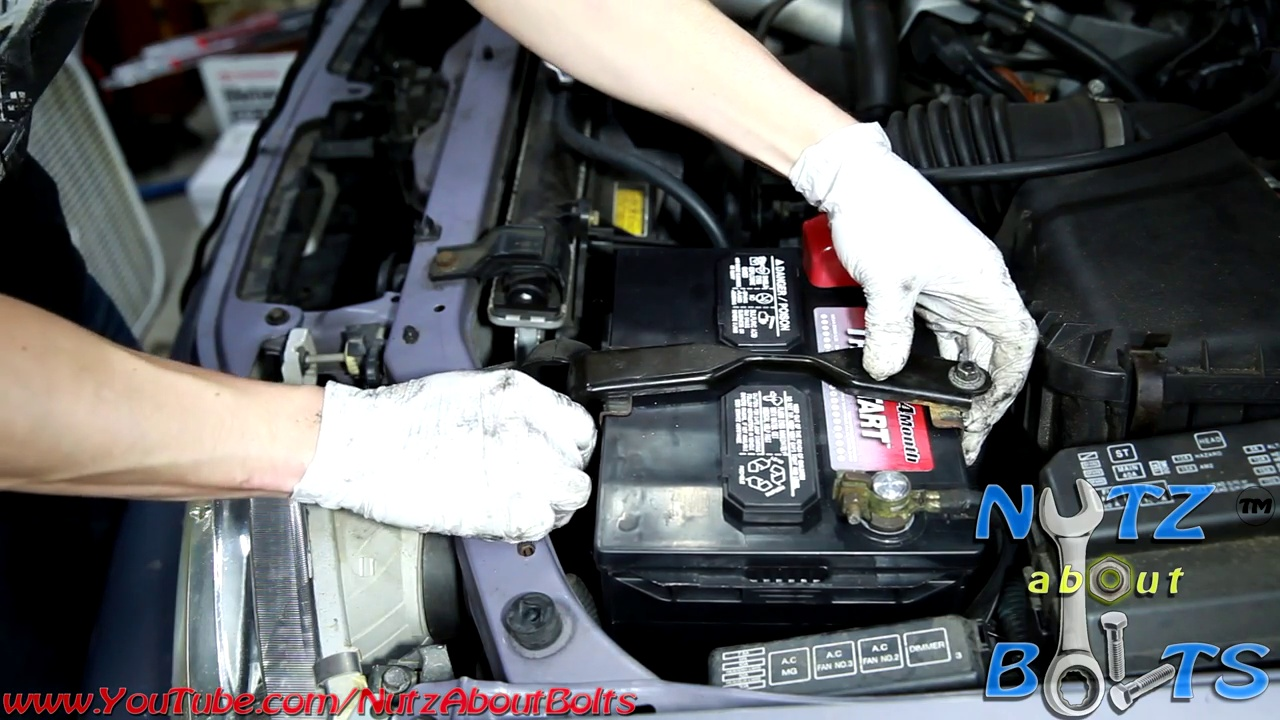battery: (597, 221, 1001, 599)
neg_connected: (825, 460, 973, 556)
pos_touched: (786, 200, 1008, 368)
